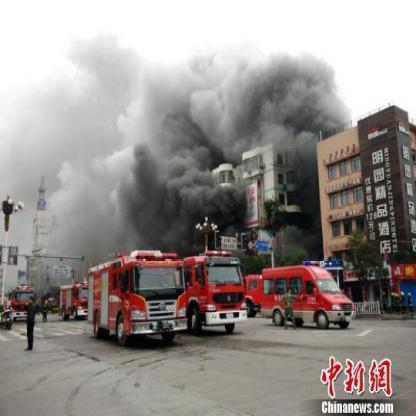smoke: (50, 141, 240, 229), (152, 54, 346, 137), (30, 46, 147, 140), (4, 146, 46, 194)
